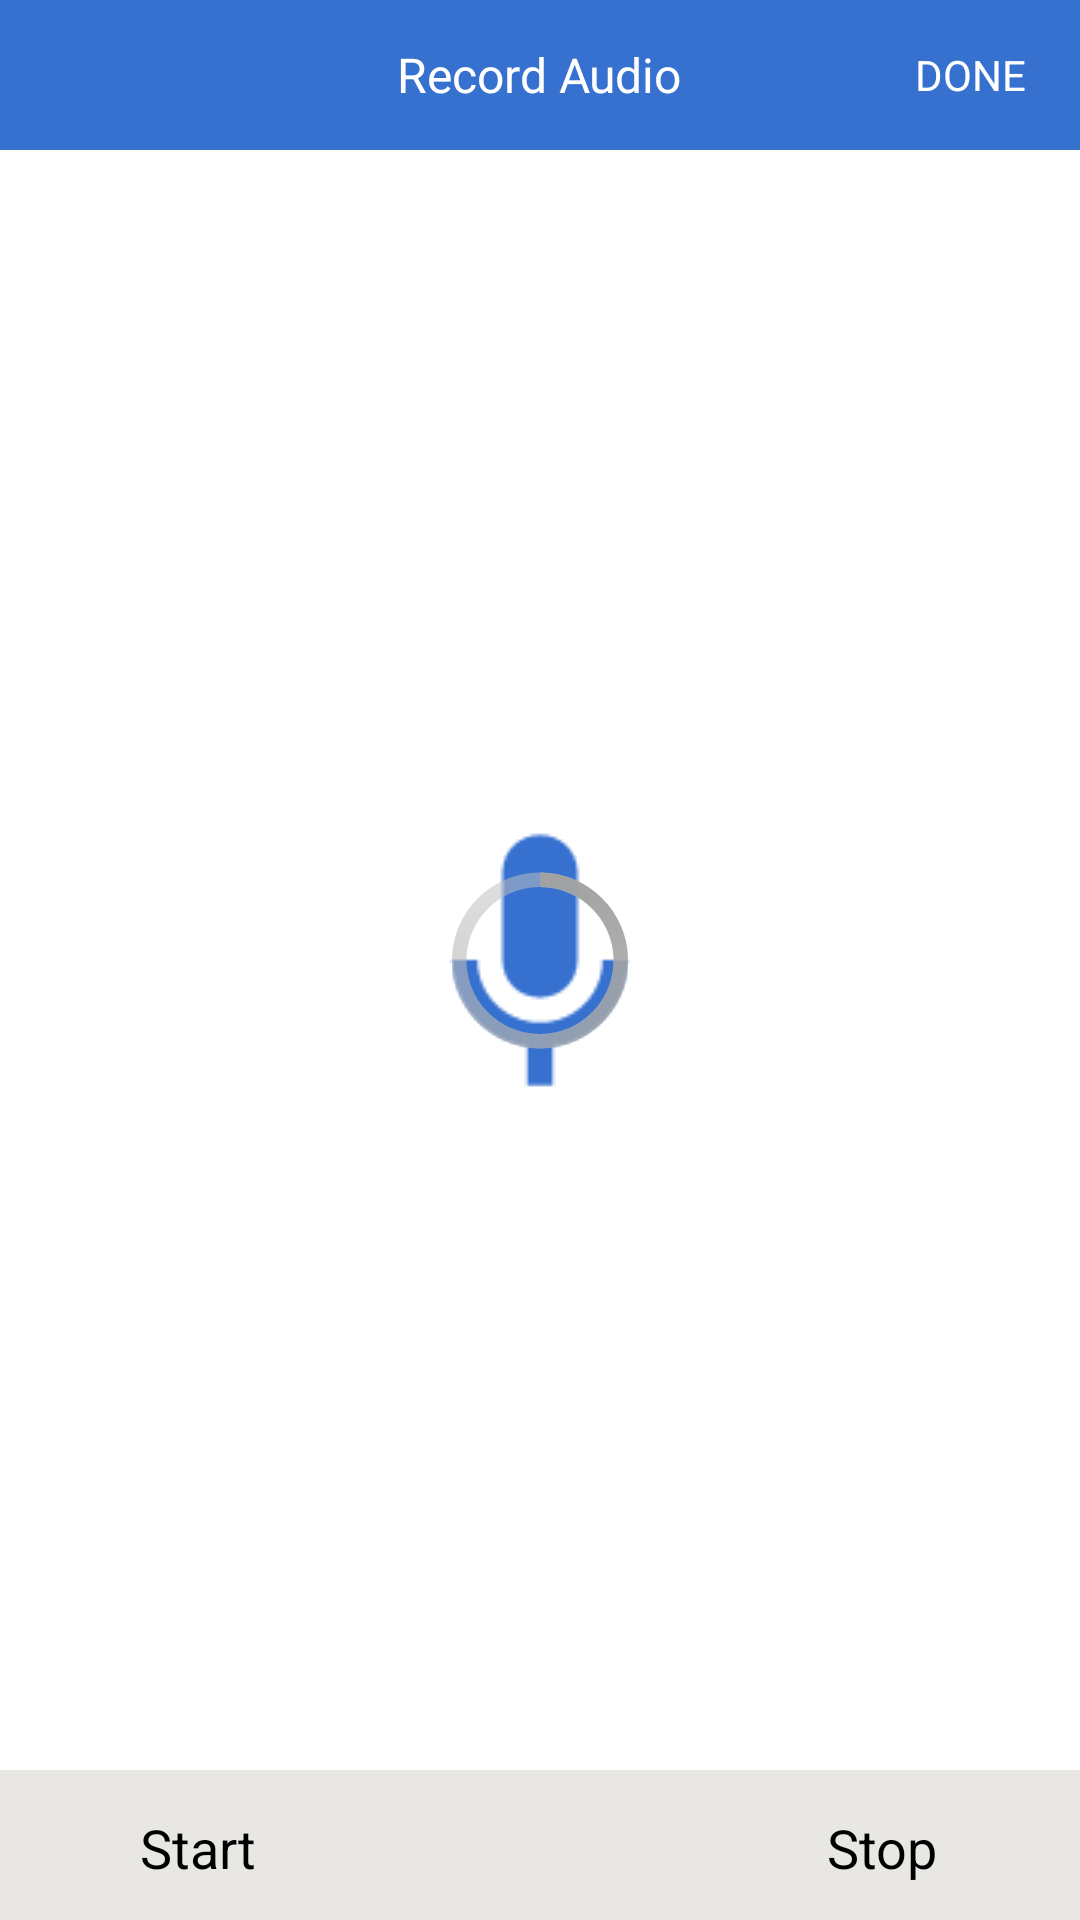

Where icons sit on this 1080*1920 app screen, as bbox=[x1, y1, x2, y2]:
mic bl: bbox=[450, 833, 630, 1087]
